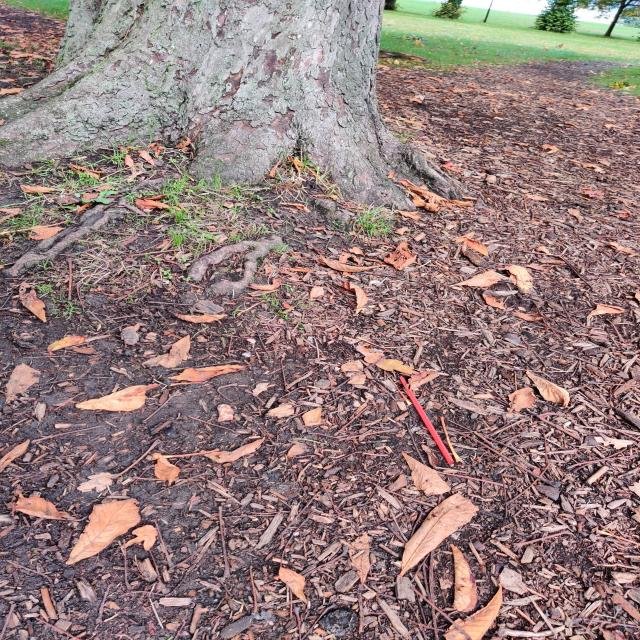litter: (399, 376, 455, 464)
